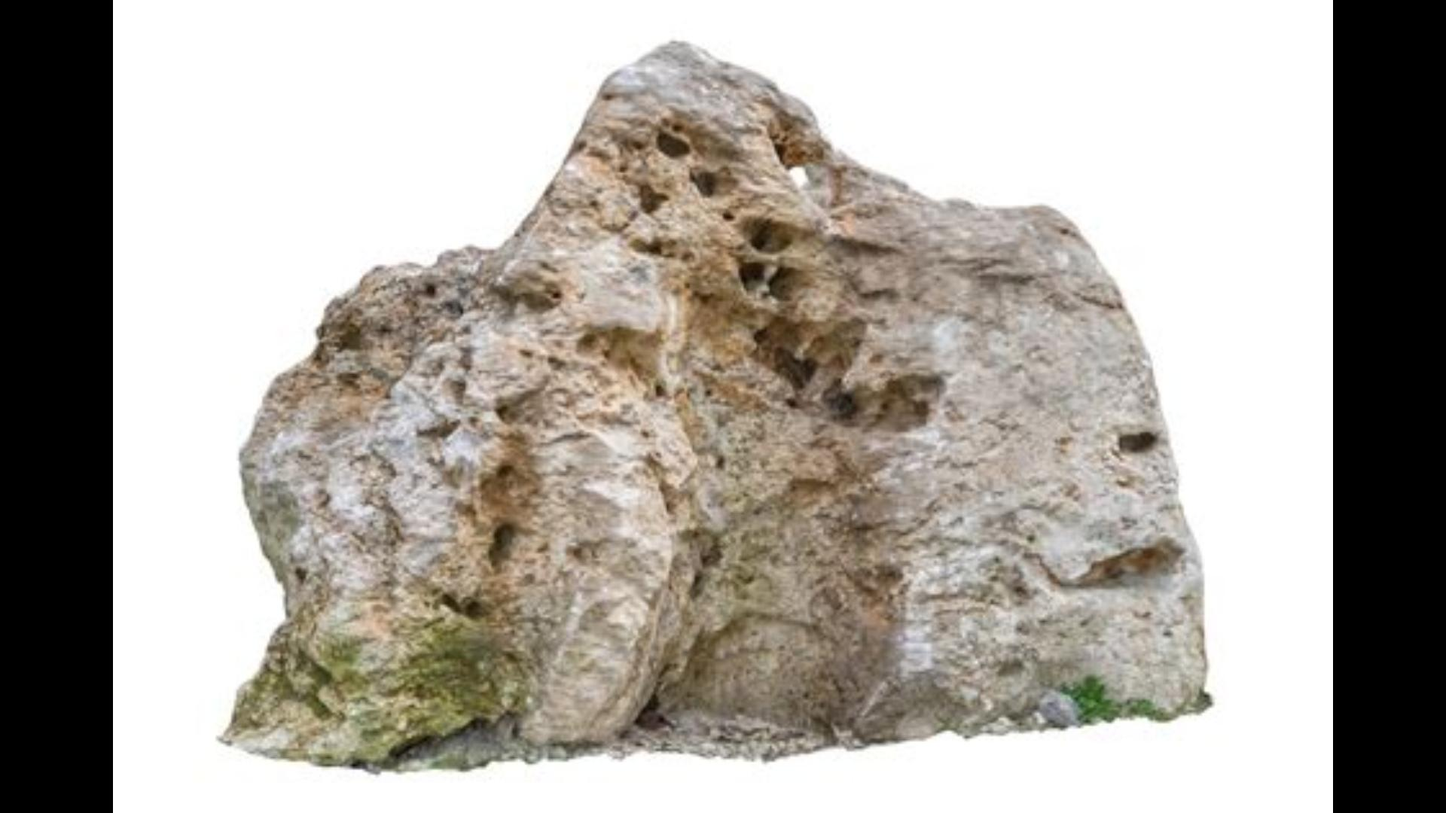rock: (226, 44, 1199, 751)
